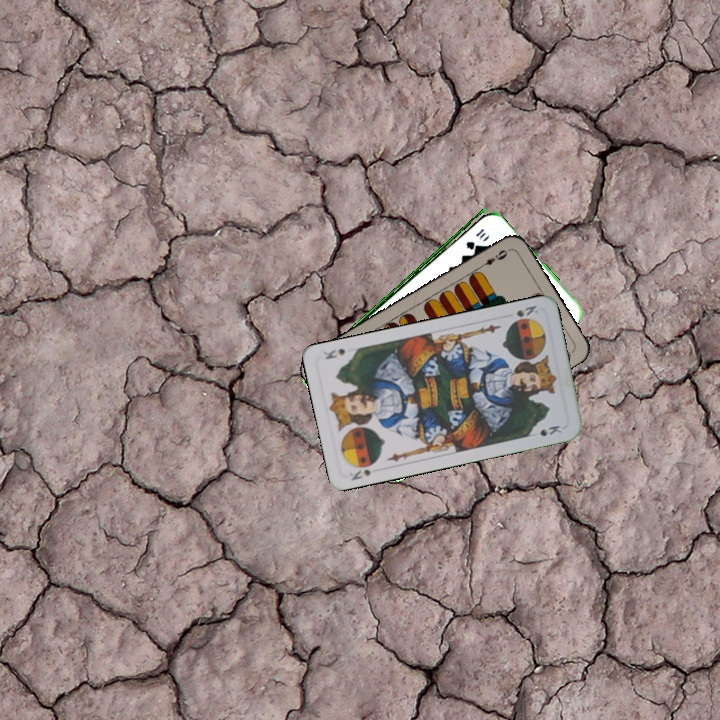E9: (475, 245, 512, 271)
G10: (462, 224, 489, 251)
SK: (346, 458, 380, 483), (512, 301, 541, 320)
